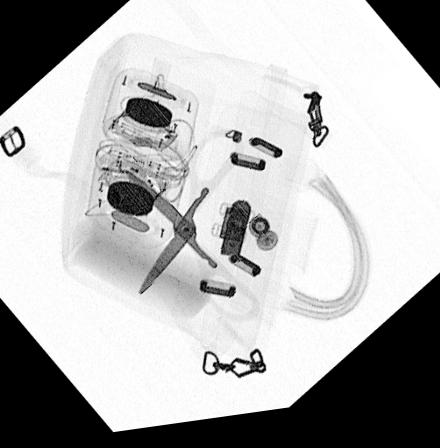Scissors: (126, 132, 260, 328)
